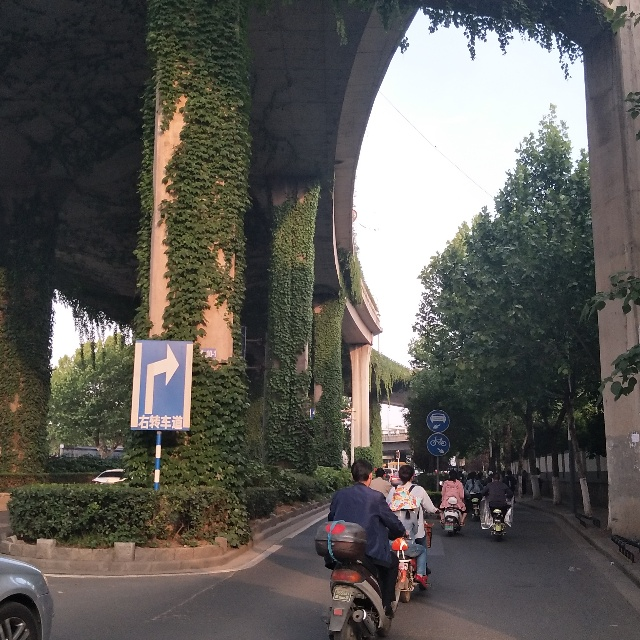right: (125, 334, 196, 437)
